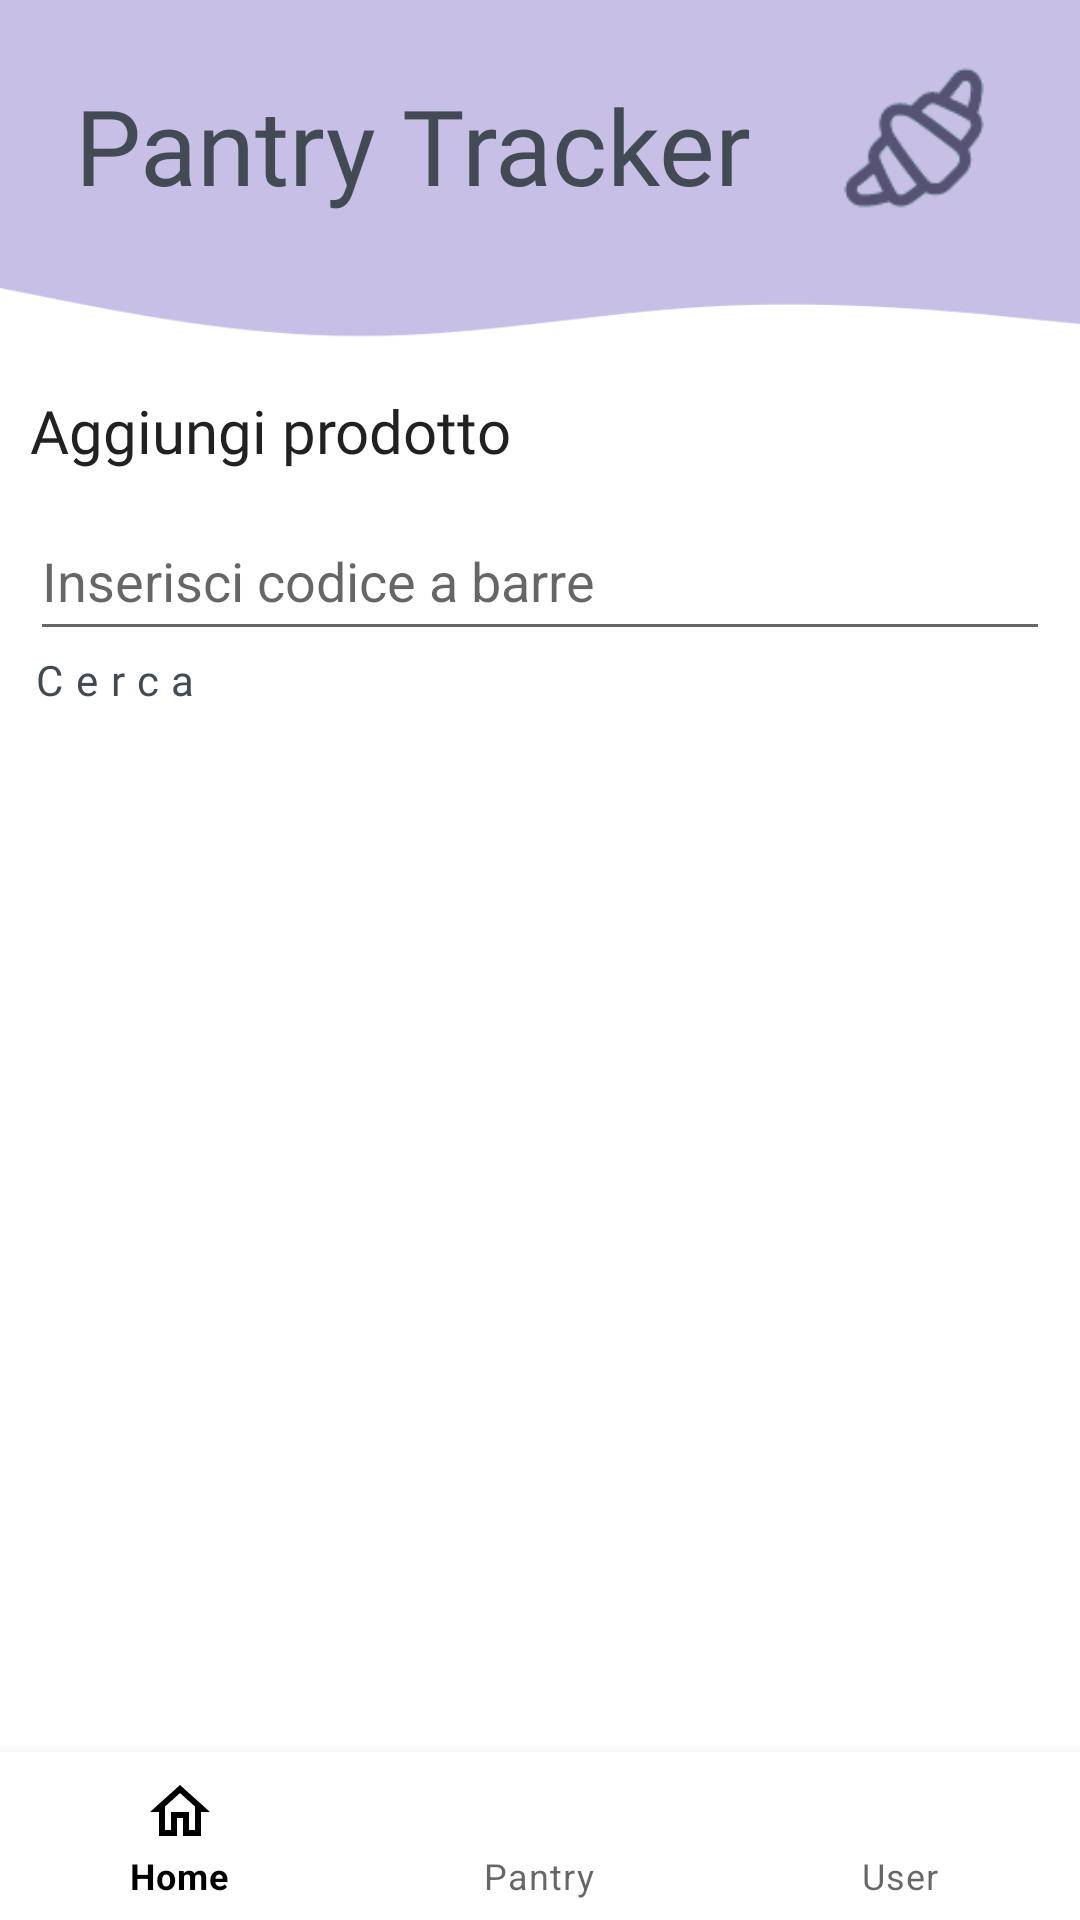

Screen size 1080*1920. Icon name, then its center in pixels as (x=x, y=y):
croissant: (x=914, y=137)
